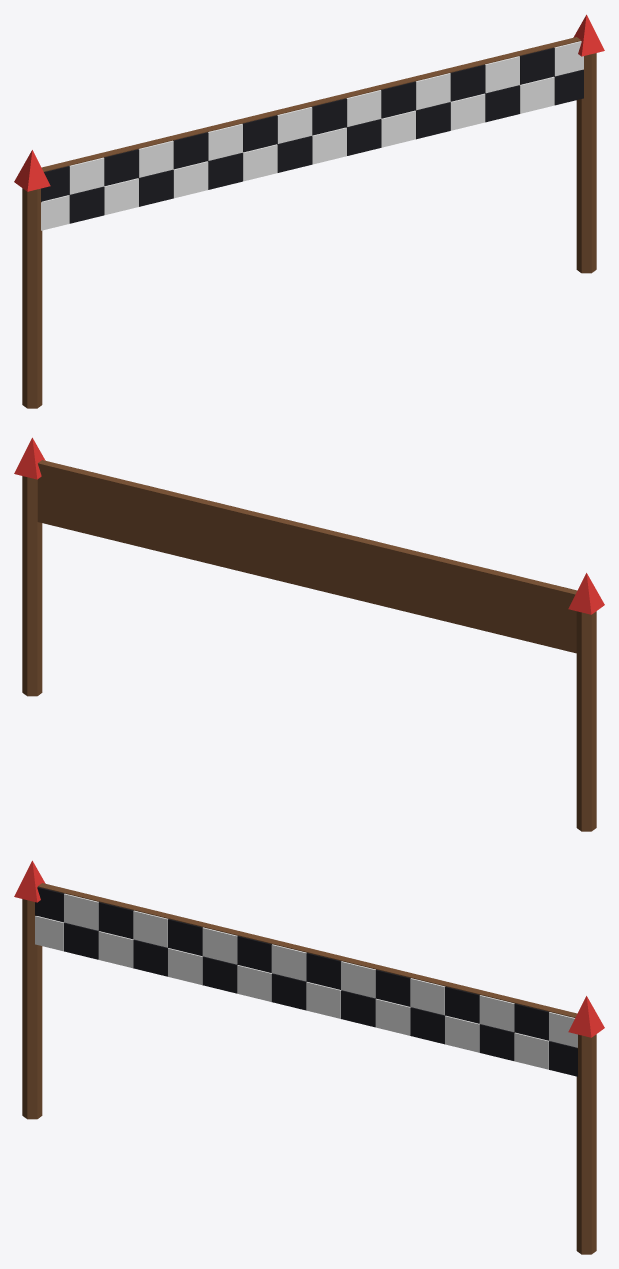
File: race_gate.glb
3 renders of one model, top to bottom at view 1: azimuth 30°, elevation 25°; view 2: azimuth 150°, elevation 25°; view 3: azimuth 330°, elevation 25°, orthographic.
Parts seen in each view (by area): view 1: race_gate; view 2: race_gate; view 3: race_gate.
Part boxes in pixels (x1=…): race_gate: x1=14, y1=14, x2=604, y2=408; race_gate: x1=14, y1=437, x2=604, y2=831; race_gate: x1=14, y1=860, x2=604, y2=1254.
Size of the model in its own units: 8.75 by 3.7 by 0.3536.
